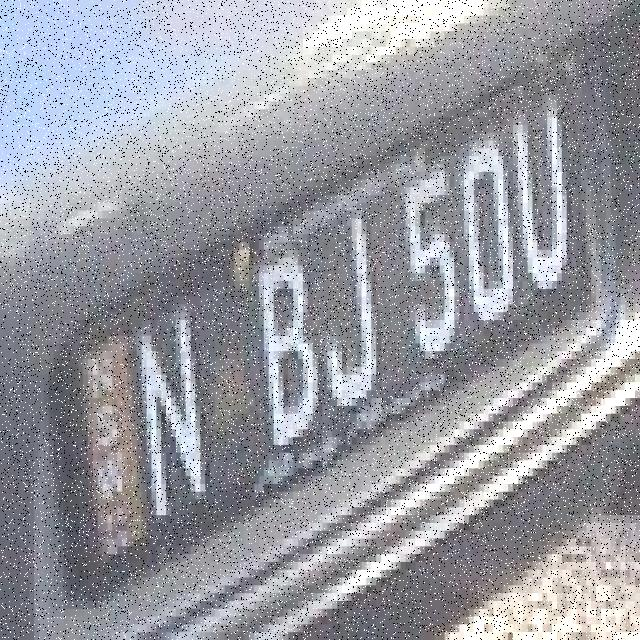licenseplate: (30, 17, 630, 603)
